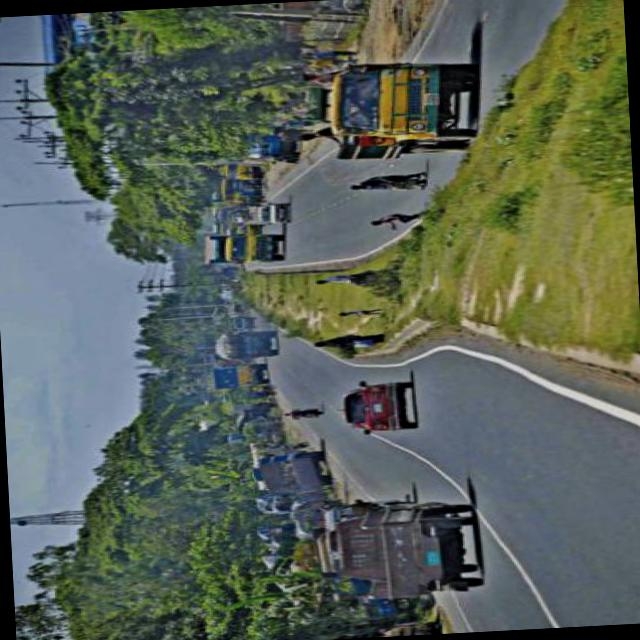car: (337, 384, 411, 436), (256, 204, 291, 226)
motorcycle: (292, 410, 318, 420)
truck: (322, 59, 474, 162), (331, 502, 480, 604), (253, 452, 330, 498), (200, 234, 278, 267), (210, 331, 274, 362), (209, 364, 266, 390)
